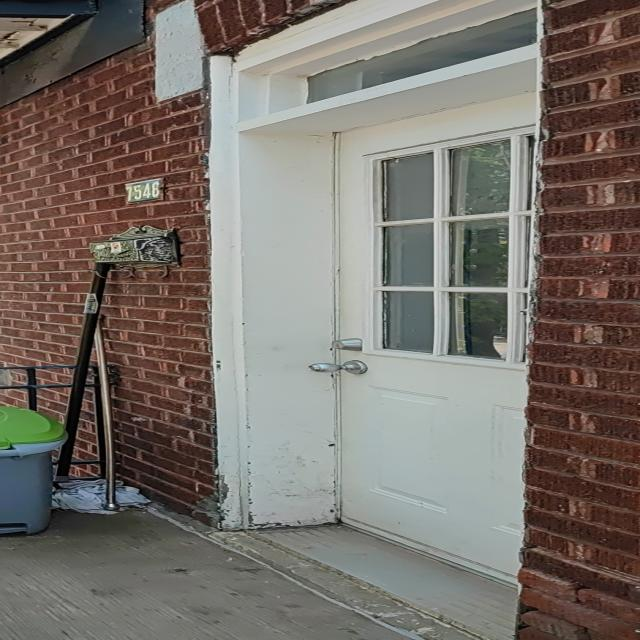door-knob: (308, 360, 367, 374)
